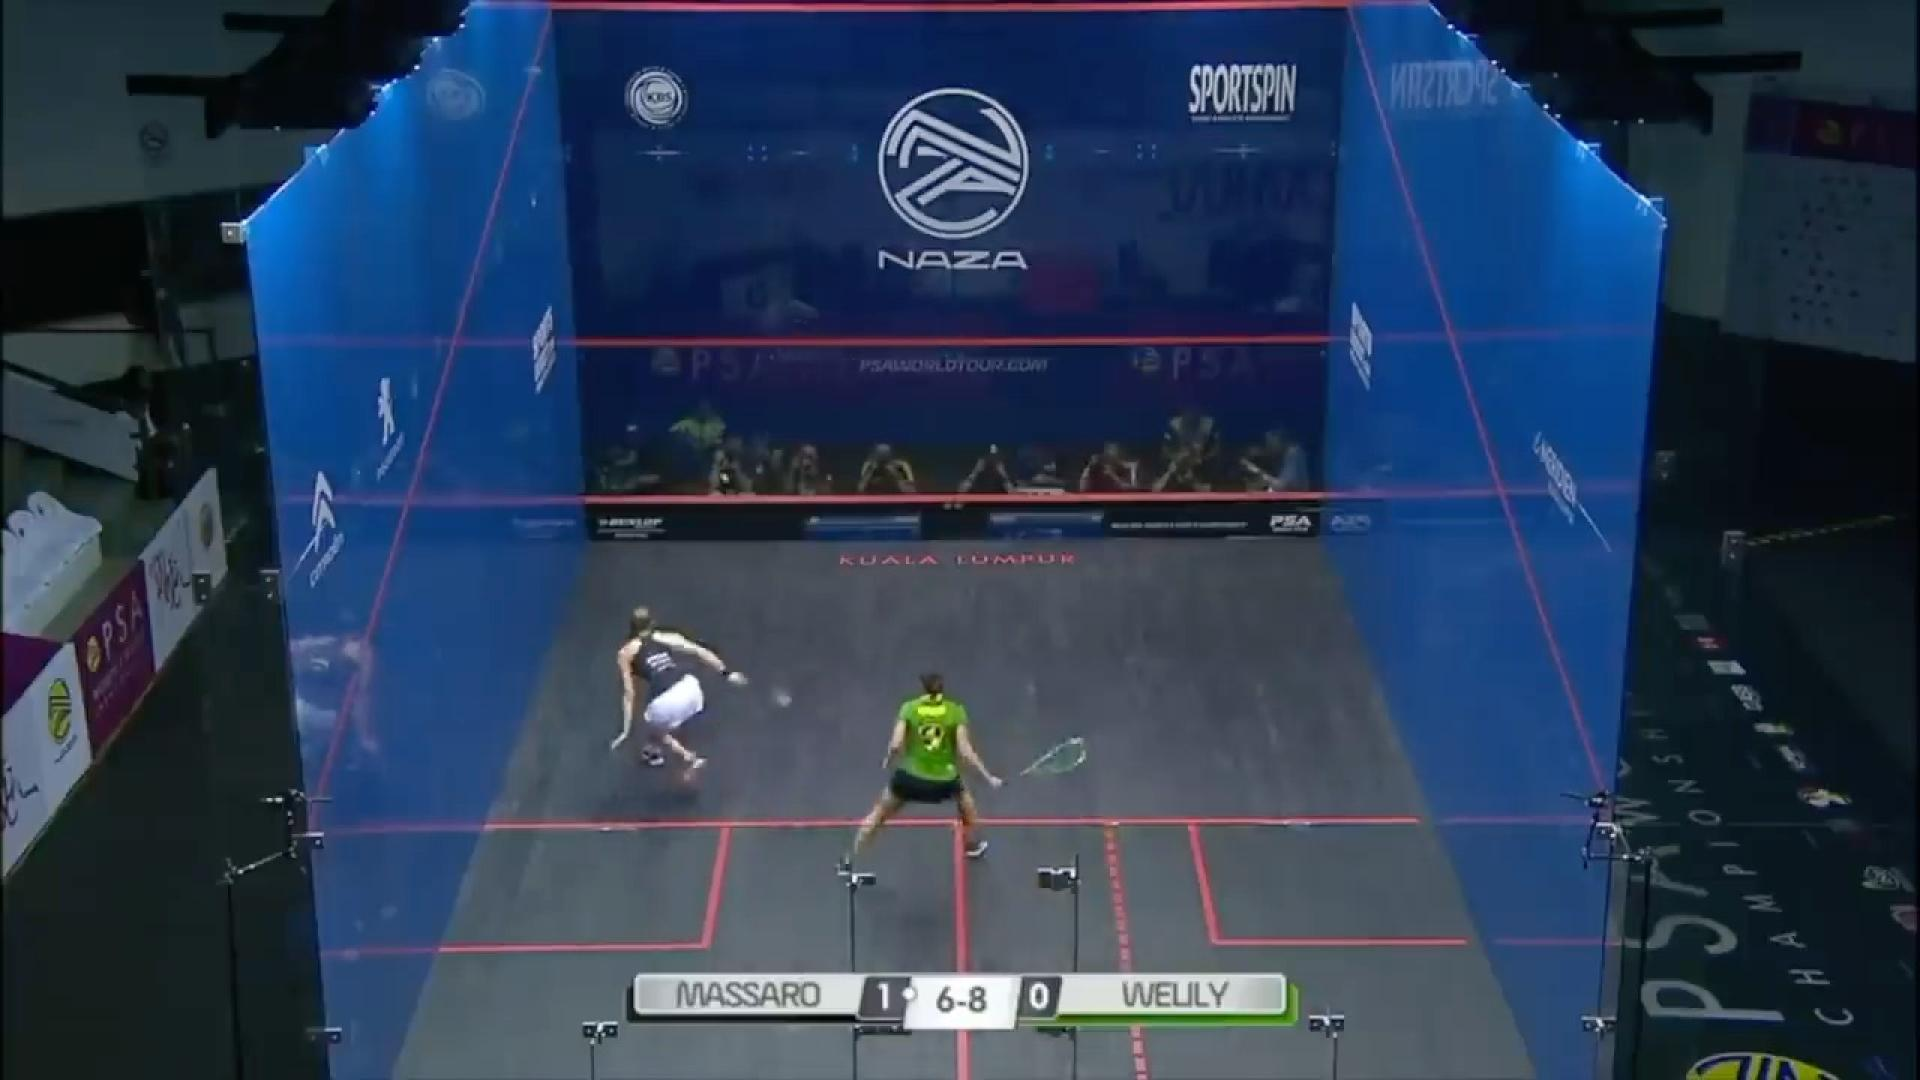Squash-Ball: (711, 458, 742, 500)
